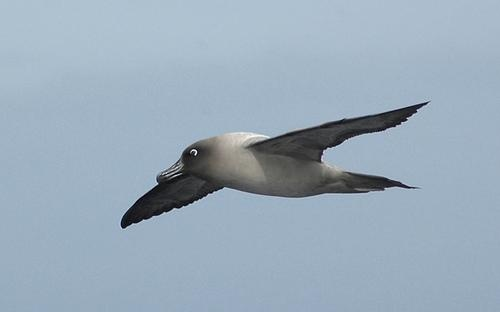bird: (115, 98, 433, 233)
